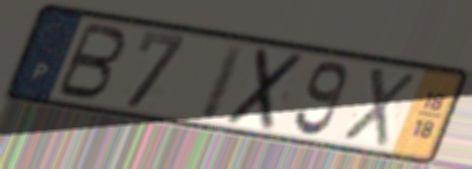7: (124, 29, 191, 112)
9: (293, 60, 349, 137)
B: (51, 19, 130, 102)
I: (195, 41, 250, 123)
X: (221, 45, 309, 134), (338, 64, 418, 150)
